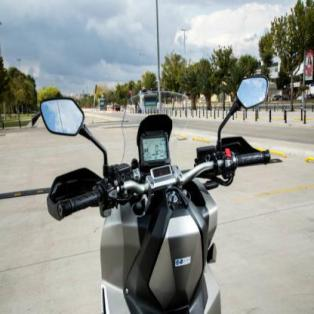Motocicleta: (38, 70, 277, 313)
